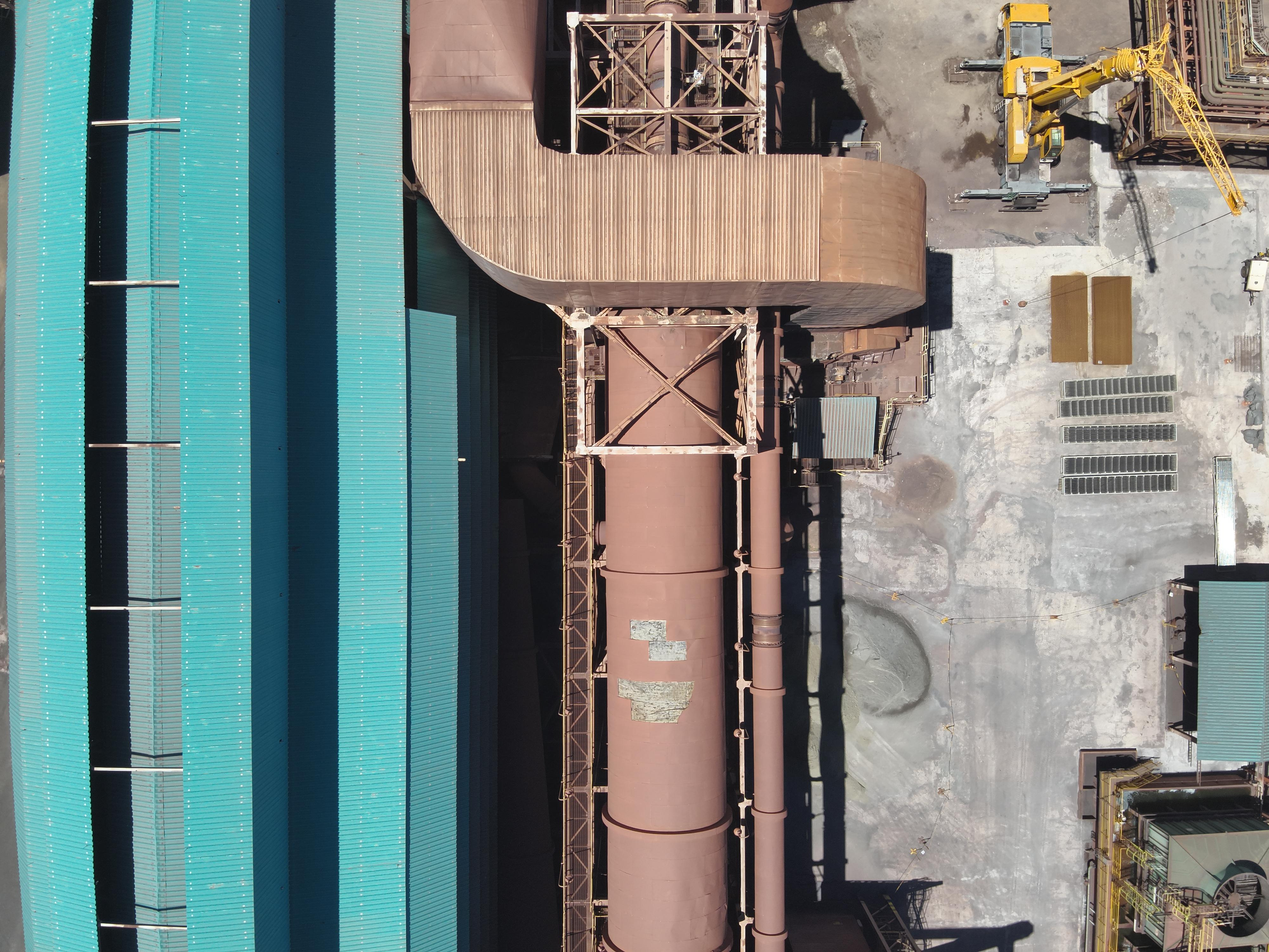Failures: (616, 678, 696, 702), (630, 699, 691, 725), (780, 345, 846, 366), (629, 618, 668, 641), (647, 641, 688, 662)
